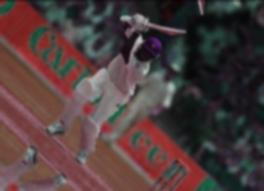batsman: (39, 7, 187, 167)
